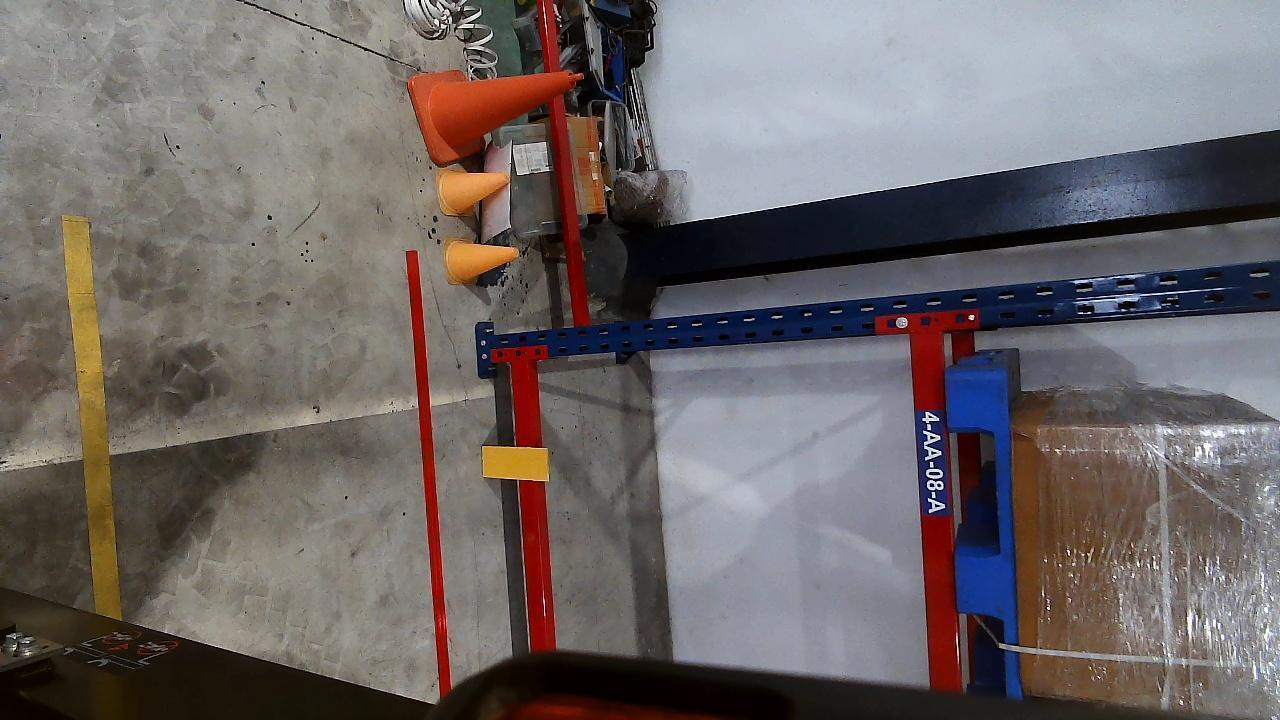red_line: (407, 250, 452, 682)
yellow_line: (60, 216, 118, 620)
